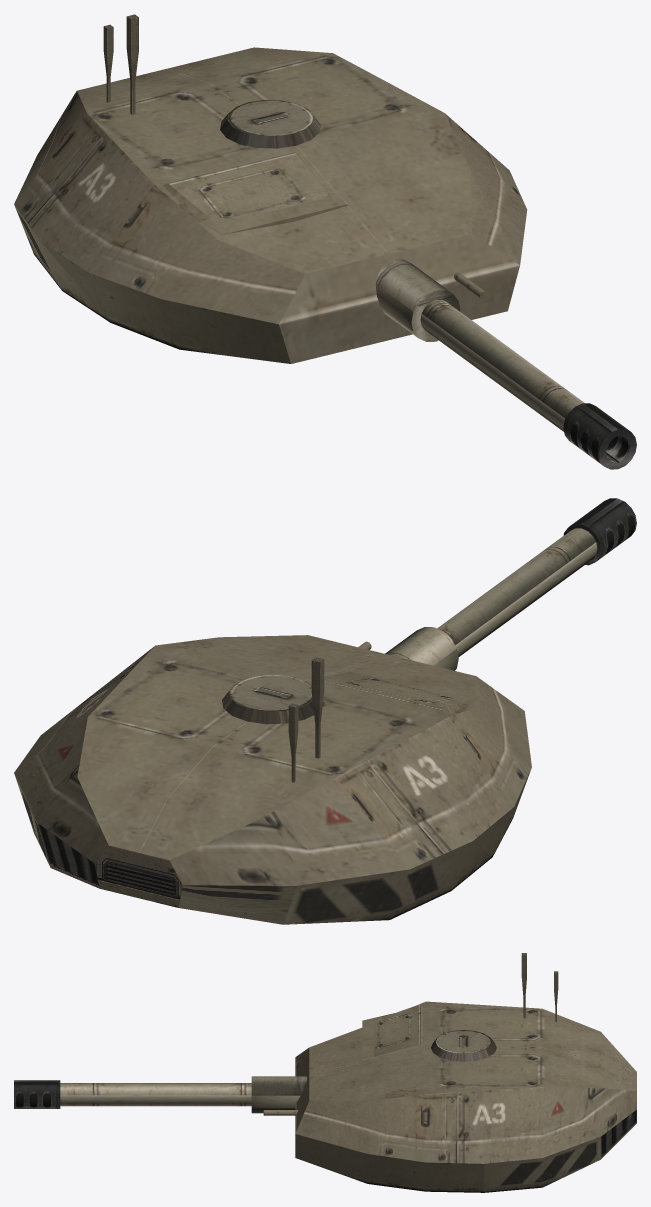
Rendered from tank_tower.dae.
3 renders of one model, top to bottom at view 1: azimuth 30°, elevation 25°; view 2: azimuth 150°, elevation 25°; view 3: azimuth 270°, elevation 25°, orthographic. The views are drawn at different scales.
Visible parts, largest first — view 1: tank_tower; view 2: tank_tower; view 3: tank_tower.
Boxes of the visible parts, bbox=[...] form: tank_tower: bbox=[14, 14, 636, 469]; tank_tower: bbox=[14, 498, 636, 924]; tank_tower: bbox=[14, 953, 636, 1192].
Bounding box in the file's own units: 11.28 × 21.75 × 5.71.
